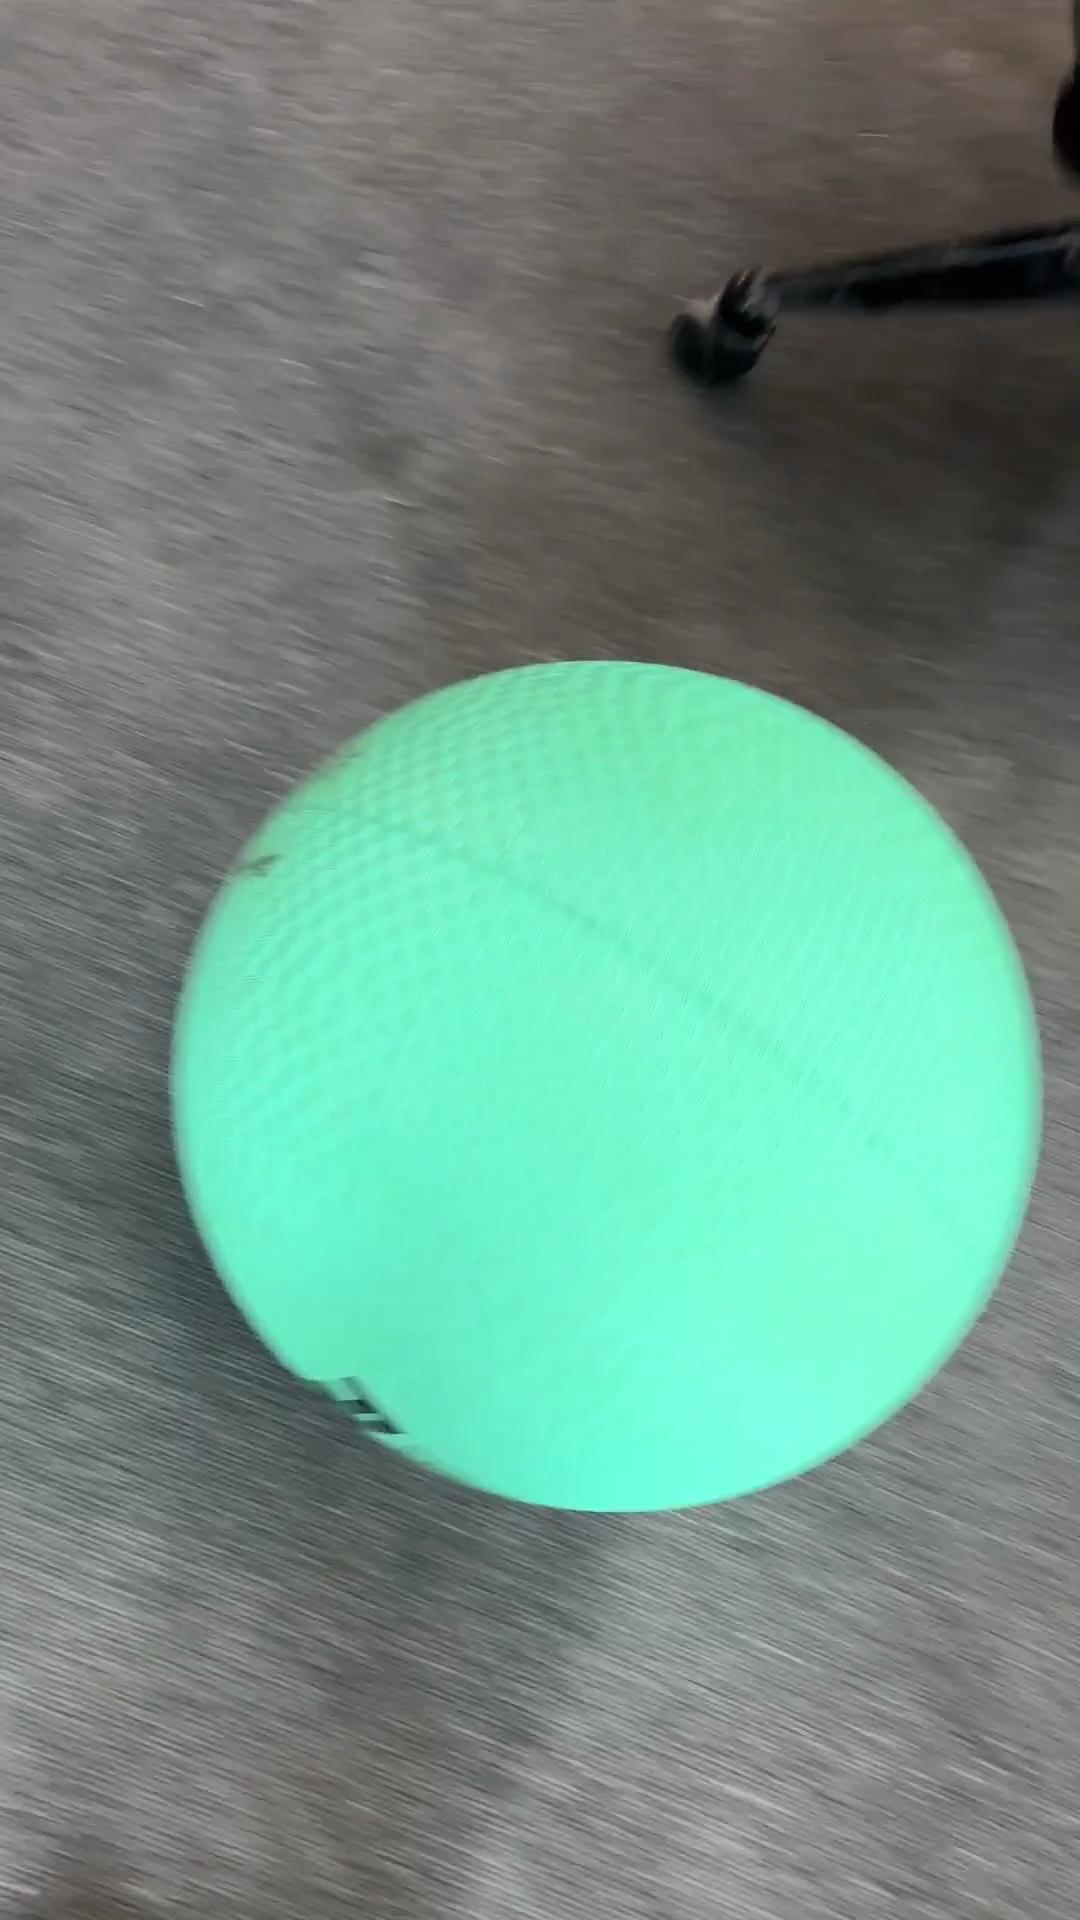ALGAE: (165, 654, 1044, 1516)
